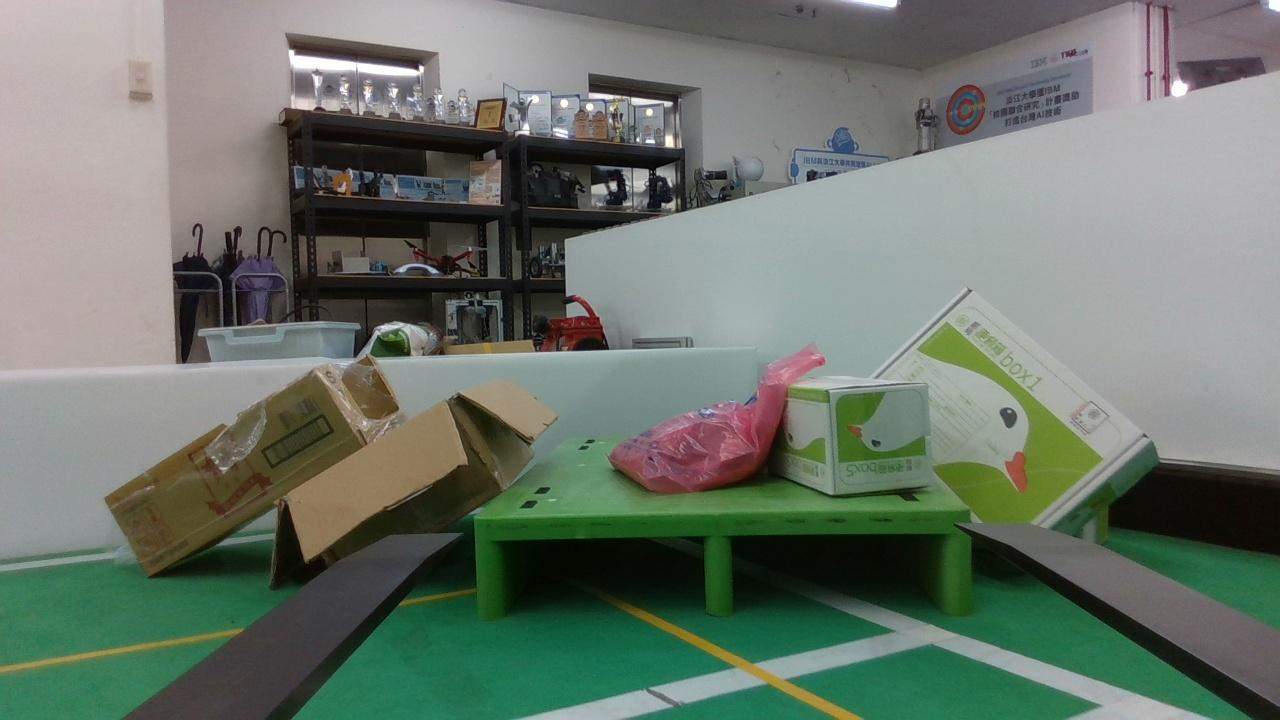Pallet: (476, 507, 974, 617)
